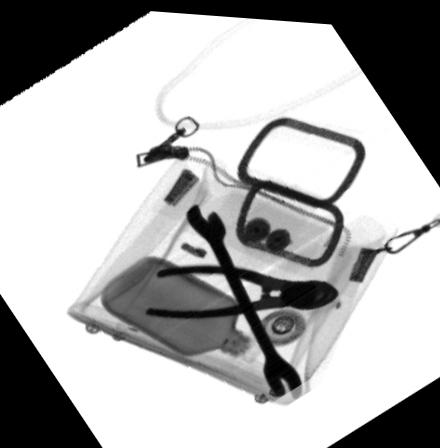Pliers: (144, 260, 340, 316)
Wrench: (181, 200, 303, 396)
